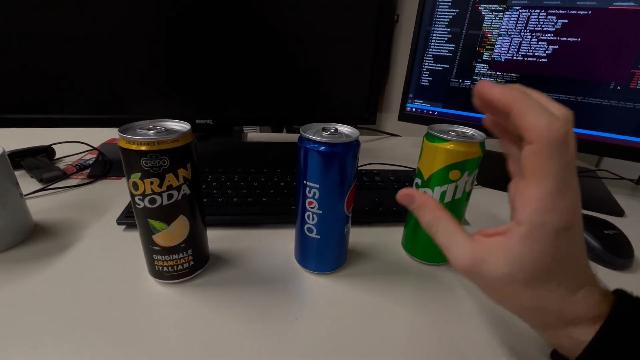OranSoda: (118, 118, 212, 284)
Pepsi: (292, 121, 362, 276)
Sprite: (399, 121, 489, 268)
